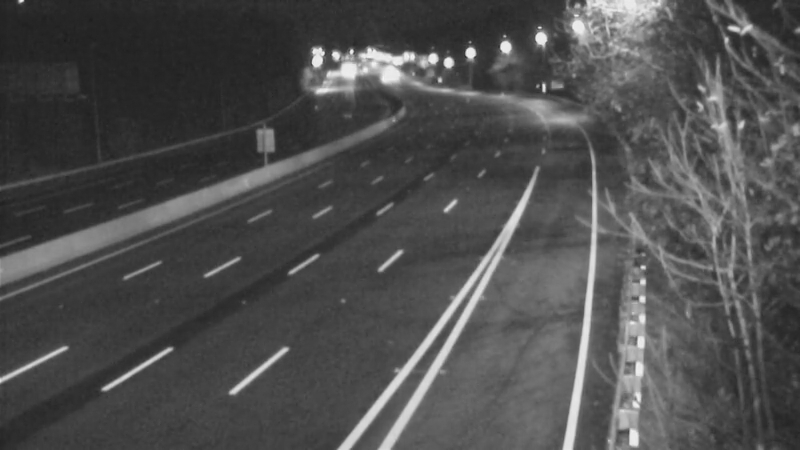vehicle: (465, 110, 528, 157), (586, 105, 649, 152), (663, 88, 725, 135), (685, 86, 747, 133)
